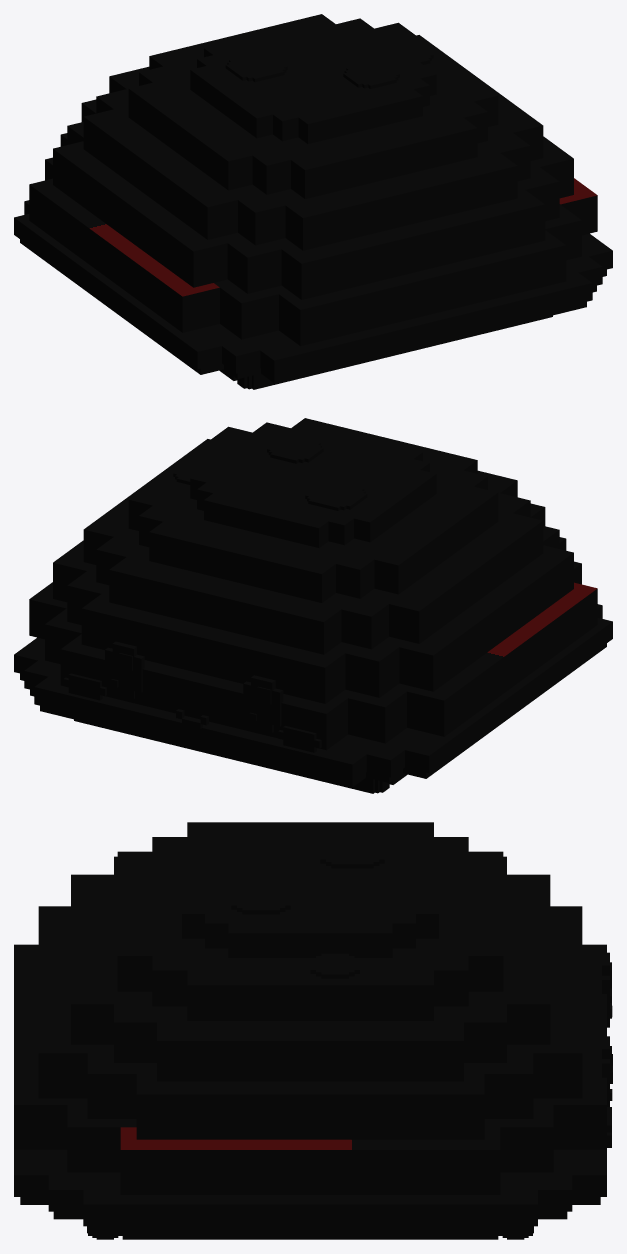
Rendered from hat_toadstool.obj.
The picture shows the model from 3 angles, top to bottom: view 1: azimuth 30°, elevation 25°; view 2: azimuth 150°, elevation 25°; view 3: azimuth 270°, elevation 25°; orthographic projection. The views are drawn at different scales.
Bounding box in the file's own units: 0.75 × 0.3781 × 0.7575.
